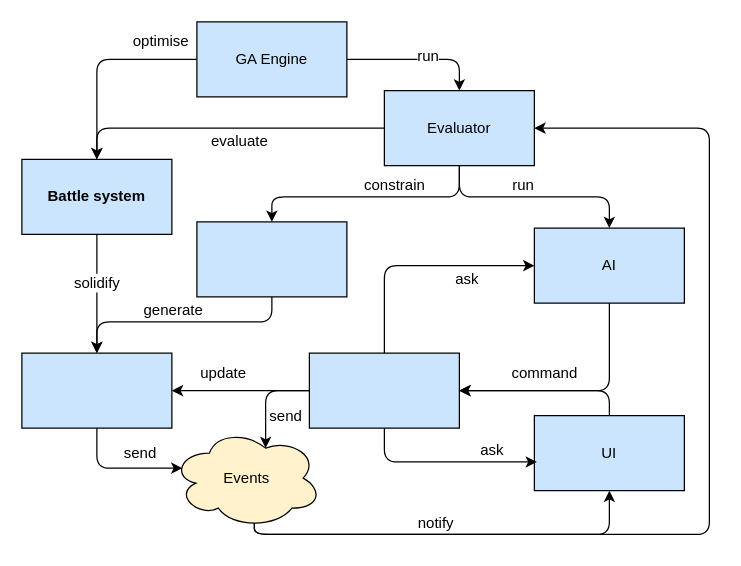
Some shapes in this 741 by 566 pixel diagram are drawn without their labels. The shapes that lost their labels are listed below. From the top down, each one's centre as x and y in pixels, then its label:
At pixel 271 259: "Generator".
At pixel 96 390: "Model".
At pixel 383 390: "Controller".
